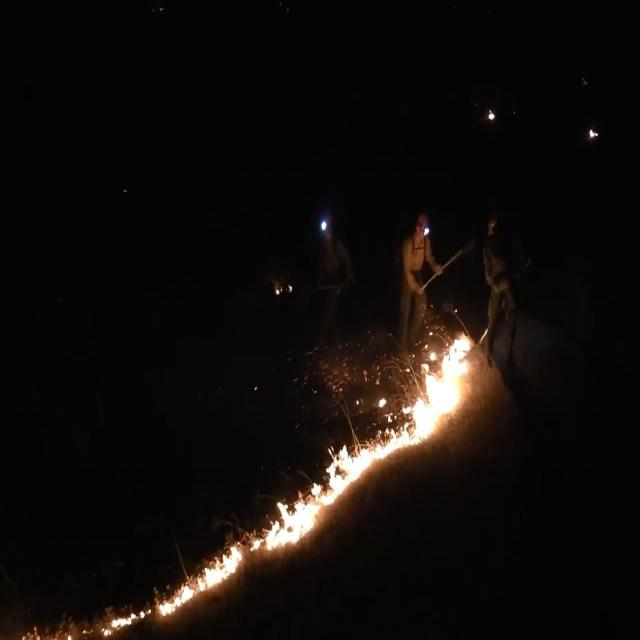Fire: (23, 330, 482, 640)
